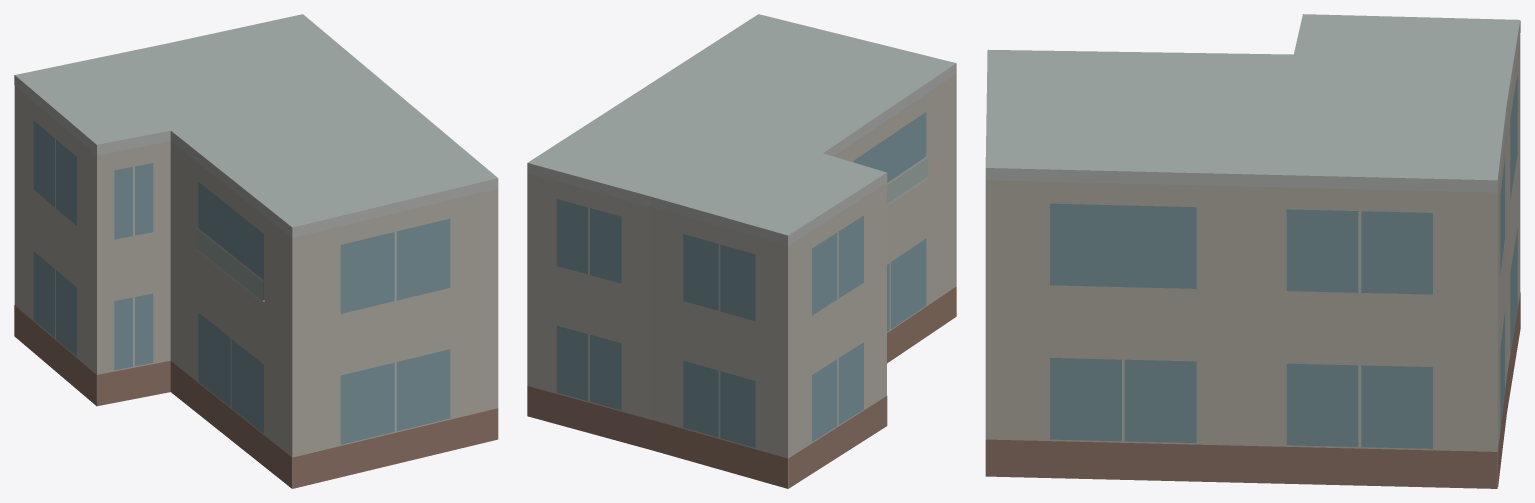
Rendered from survey-upis-32726327.glb.
3 views of the same model, side by side, from view 1: azimuth 30°, elevation 25°; view 2: azimuth 150°, elevation 25°; view 3: azimuth 270°, elevation 25° (orthographic). The views are drawn at different scales.
Visible parts, largest first — view 1: survey-upis-32726327.tmp; view 2: survey-upis-32726327.tmp; view 3: survey-upis-32726327.tmp.
Boxes of the visible parts, x1,y1,x2,y2 form: survey-upis-32726327.tmp: (14,14,498,488); survey-upis-32726327.tmp: (527,14,956,488); survey-upis-32726327.tmp: (985,14,1520,488).
Size of the model in its own units: 7.06 by 6.1 by 9.59.
